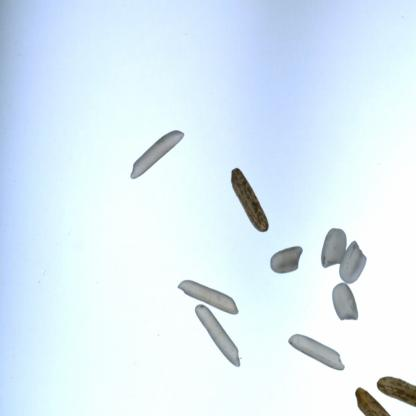Full: (126, 106, 194, 190), (215, 154, 278, 231), (180, 286, 236, 364), (342, 365, 402, 416), (285, 333, 349, 375), (164, 272, 238, 306), (353, 360, 416, 398), (258, 232, 304, 274), (321, 273, 360, 317), (332, 229, 365, 279), (315, 216, 345, 264)
